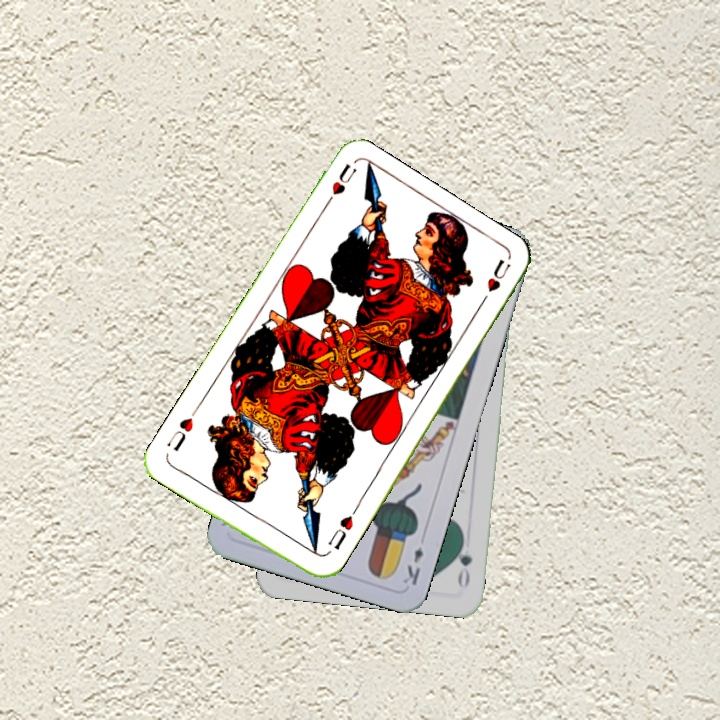EK: (399, 542, 426, 588)
GO: (452, 532, 475, 590)
HU: (318, 160, 360, 213), (324, 505, 359, 553)
